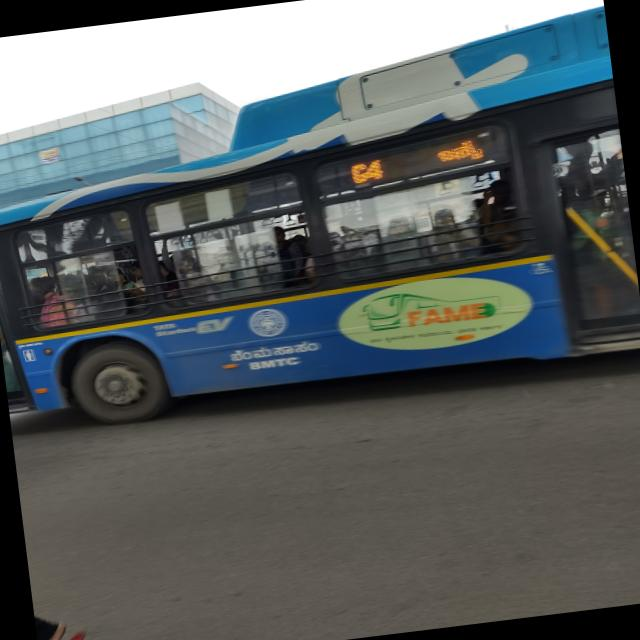bus: (0, 0, 640, 455)
display: (336, 133, 496, 188)
dnumber: (344, 157, 386, 183)
